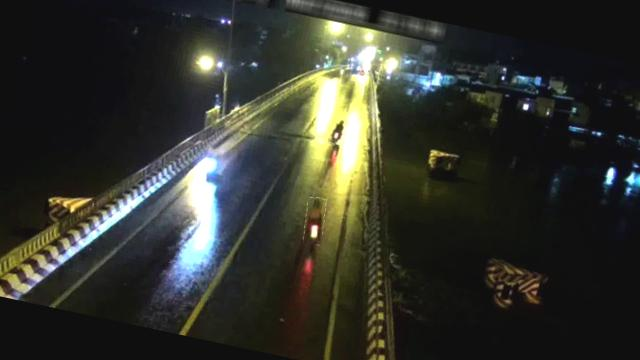Bike: (301, 196, 330, 246), (328, 116, 348, 146)
